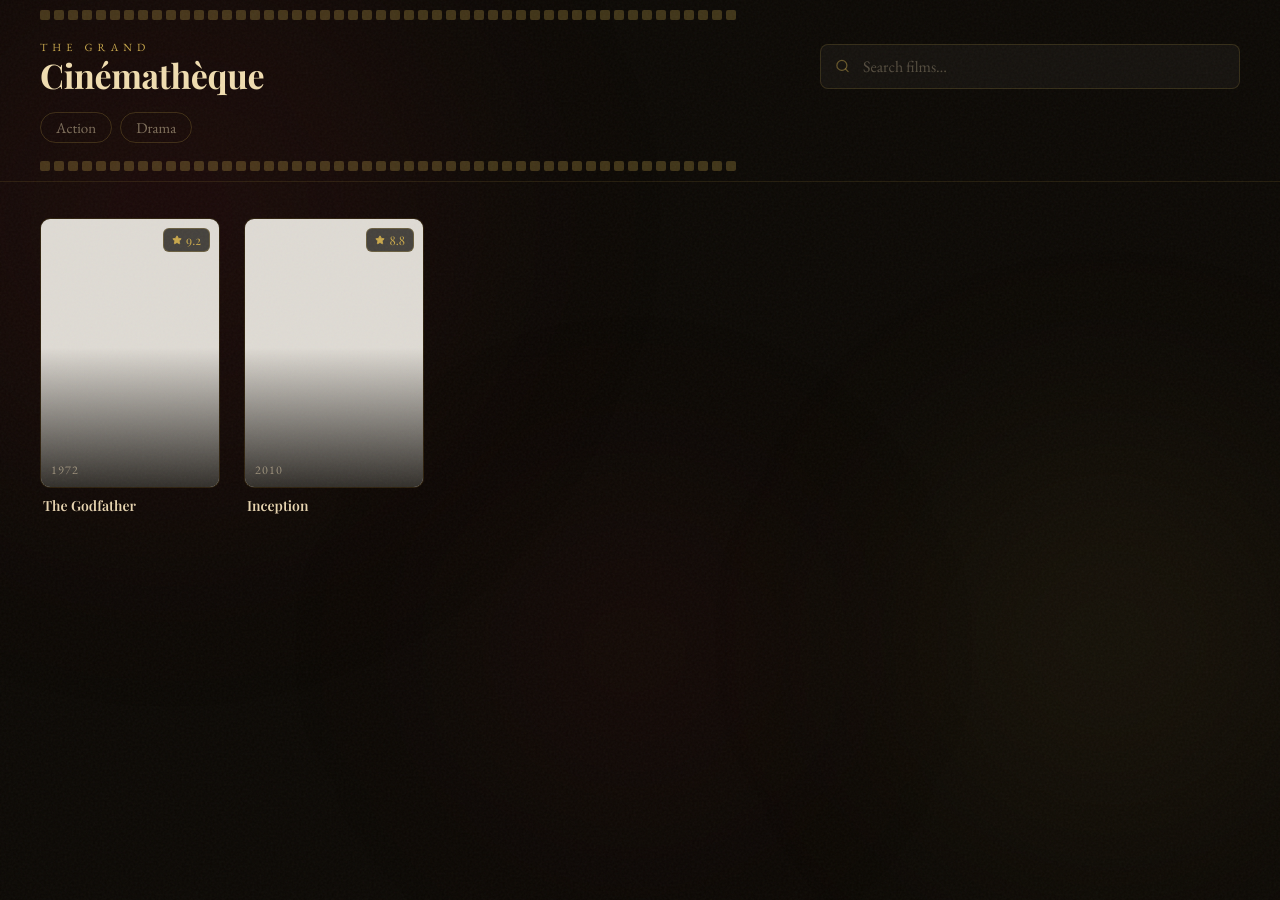
Test: HomePage › clears the search when the clear button is clicked
Check: the heading "The Godfather" is shown, box [43,496,136,515]
Step 1. Type "god" into the field with placeholder "Search films…" → (1030, 66), box [820,44,1240,88]
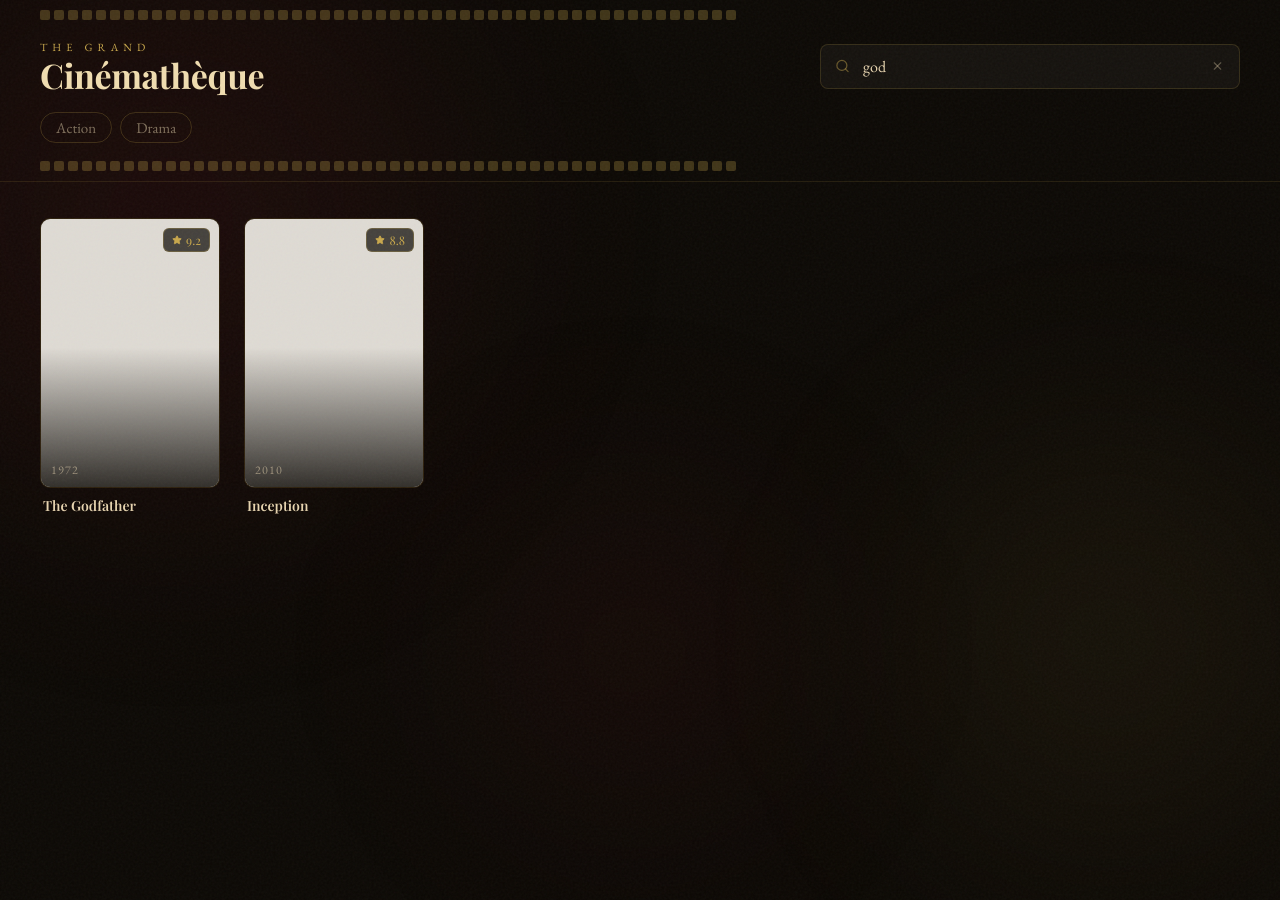
Check: the button named "clear search" is shown
Step 2. Click the button named "clear search" → (1218, 66), box [1207,56,1228,76]
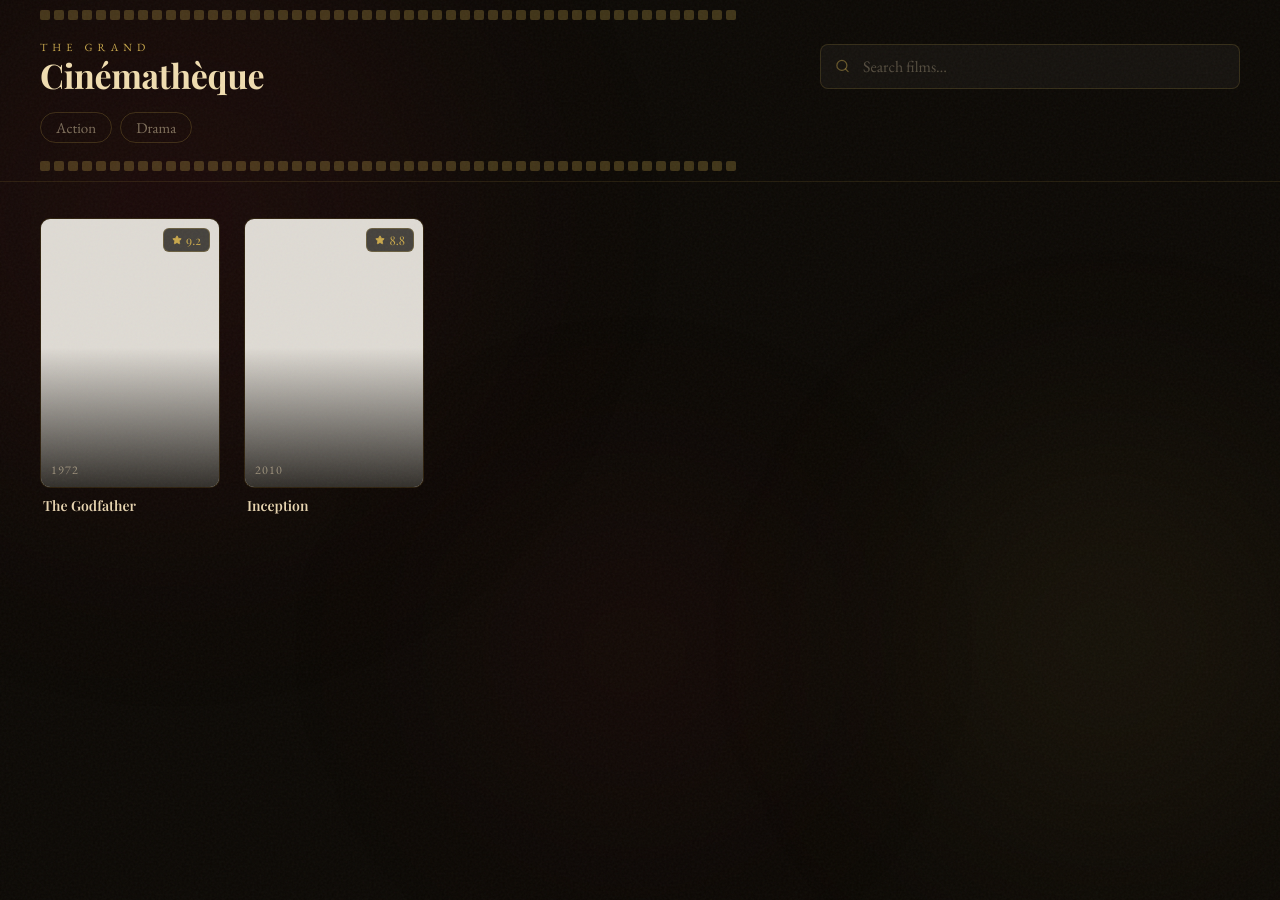
Check: the field with placeholder "Search films…" is empty, box [820,44,1240,88]
